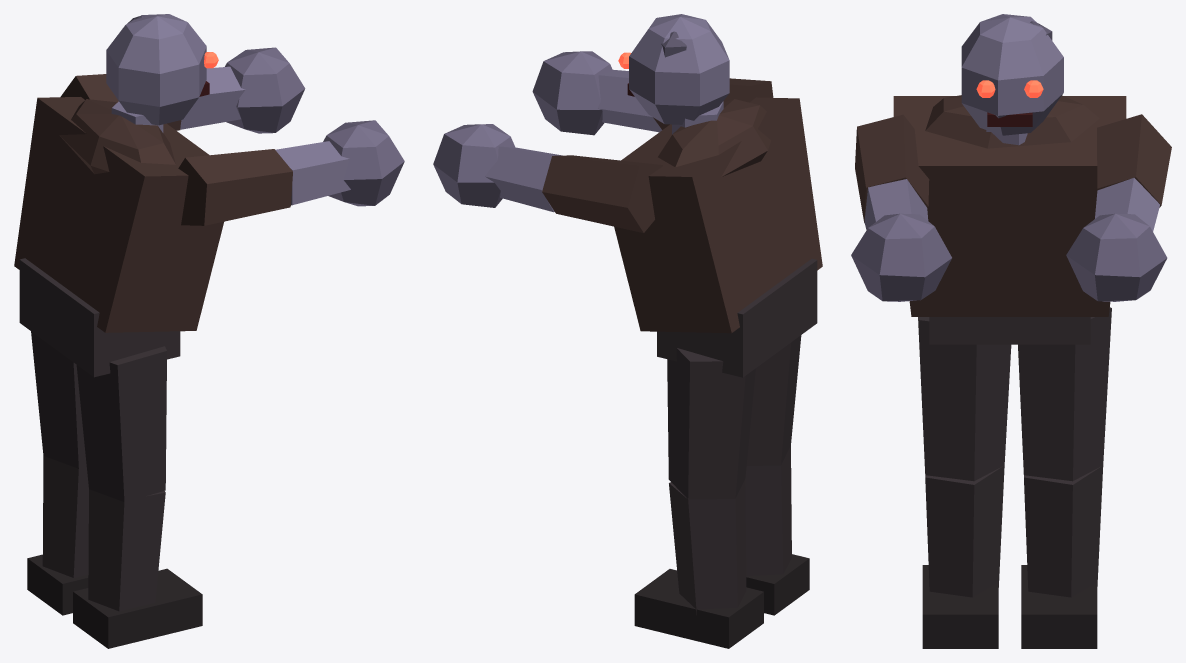
File: brute.glb
3 views of the same model, side by side, from view 1: azimuth 30°, elevation 25°; view 2: azimuth 150°, elevation 25°; view 3: azimuth 270°, elevation 25° (orthographic). The views are drawn at different scales.
Visible parts, largest first — view 1: body, leg_r, arm_r, leg_l, head, arm_l; view 2: body, leg_l, arm_l, leg_r, head, arm_r; view 3: body, leg_l, leg_r, arm_l, arm_r, head.
Boxes of the visible parts, left/top/right/bottom form: body: left=14, top=97, right=223, bottom=377; leg_r: left=73, top=346, right=202, bottom=648; arm_r: left=178, top=120, right=404, bottom=225; leg_l: left=27, top=331, right=88, bottom=615; head: left=106, top=14, right=218, bottom=125; arm_l: left=60, top=47, right=305, bottom=133; body: left=614, top=97, right=822, bottom=377; leg_l: left=634, top=348, right=763, bottom=648; arm_l: left=433, top=124, right=662, bottom=232; leg_r: left=745, top=335, right=809, bottom=615; head: left=618, top=14, right=729, bottom=124; arm_r: left=532, top=51, right=773, bottom=135; body: left=893, top=95, right=1126, bottom=344; leg_l: left=1018, top=307, right=1111, bottom=648; leg_r: left=918, top=317, right=1011, bottom=648; arm_l: left=1066, top=114, right=1171, bottom=301; arm_r: left=851, top=114, right=951, bottom=301; head: left=961, top=14, right=1063, bottom=135.
Bounding box in the file's own units: 1.24 × 2.4 × 1.11.
